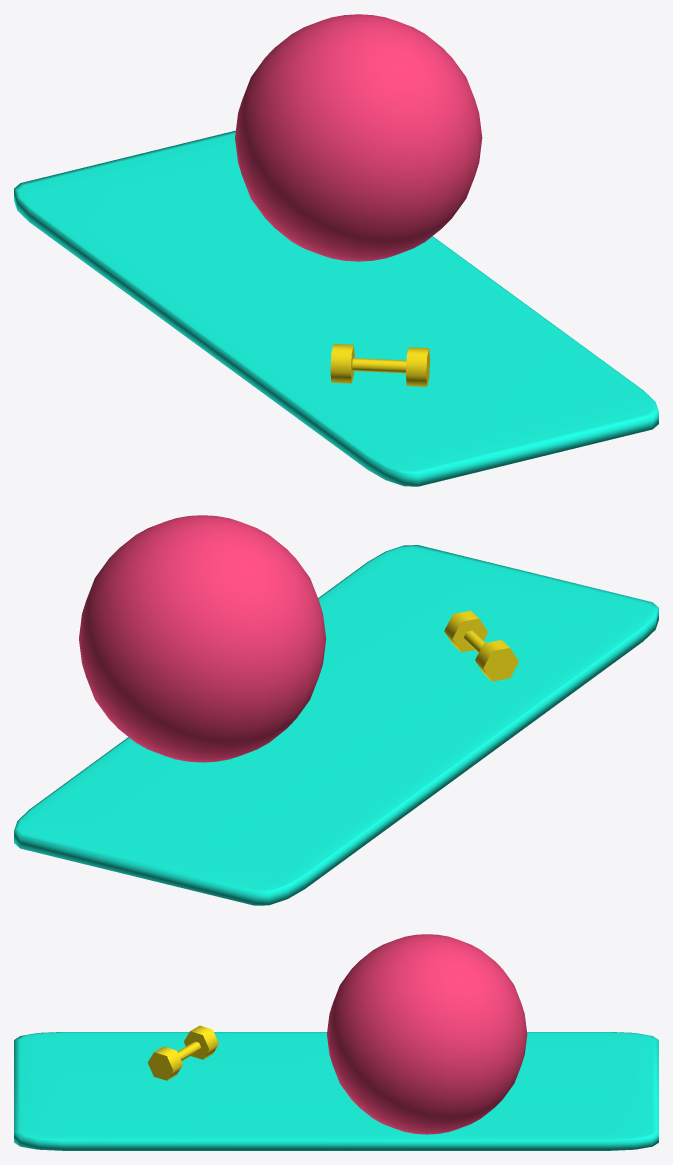
File: reha_sportscene.fbx
3 renders of one model, top to bottom at view 1: azimuth 30°, elevation 25°; view 2: azimuth 150°, elevation 25°; view 3: azimuth 270°, elevation 25°, orthographic. The views are drawn at different scales.
Visible parts, largest first — view 1: Cube.006, Sphere, Cylinder.013; view 2: Cube.006, Sphere, Cylinder.013; view 3: Cube.006, Sphere, Cylinder.013.
Boxes of the visible parts, x1,y1,x2,y2 form: Cube.006: (14,130,658,486); Sphere: (235,14,482,261); Cylinder.013: (330,344,430,386); Cube.006: (14,545,658,905); Sphere: (79,515,326,762); Cylinder.013: (444,610,518,681); Cube.006: (14,1032,658,1150); Sphere: (327,934,527,1134); Cylinder.013: (147,1025,218,1080).
Size of the model in its own units: 234 by 158 by 500.
